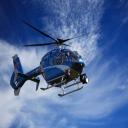helicopter: (13, 20, 92, 98)
